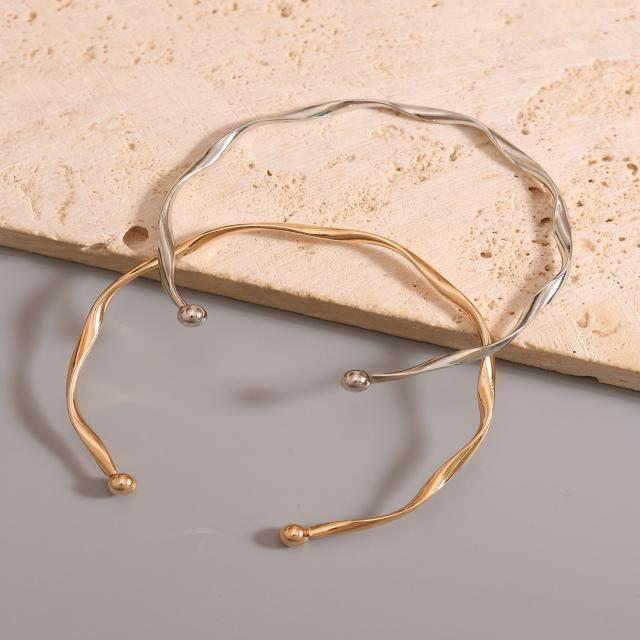bracelet: (7, 55, 629, 563)
